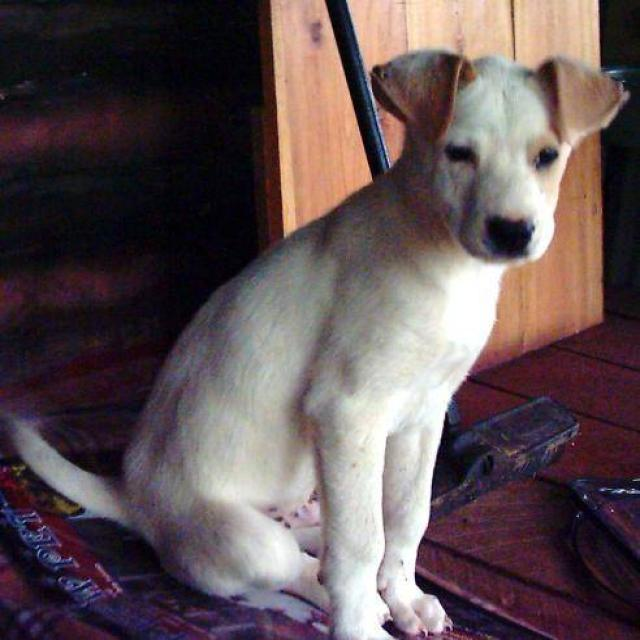dog: (0, 46, 630, 639)
